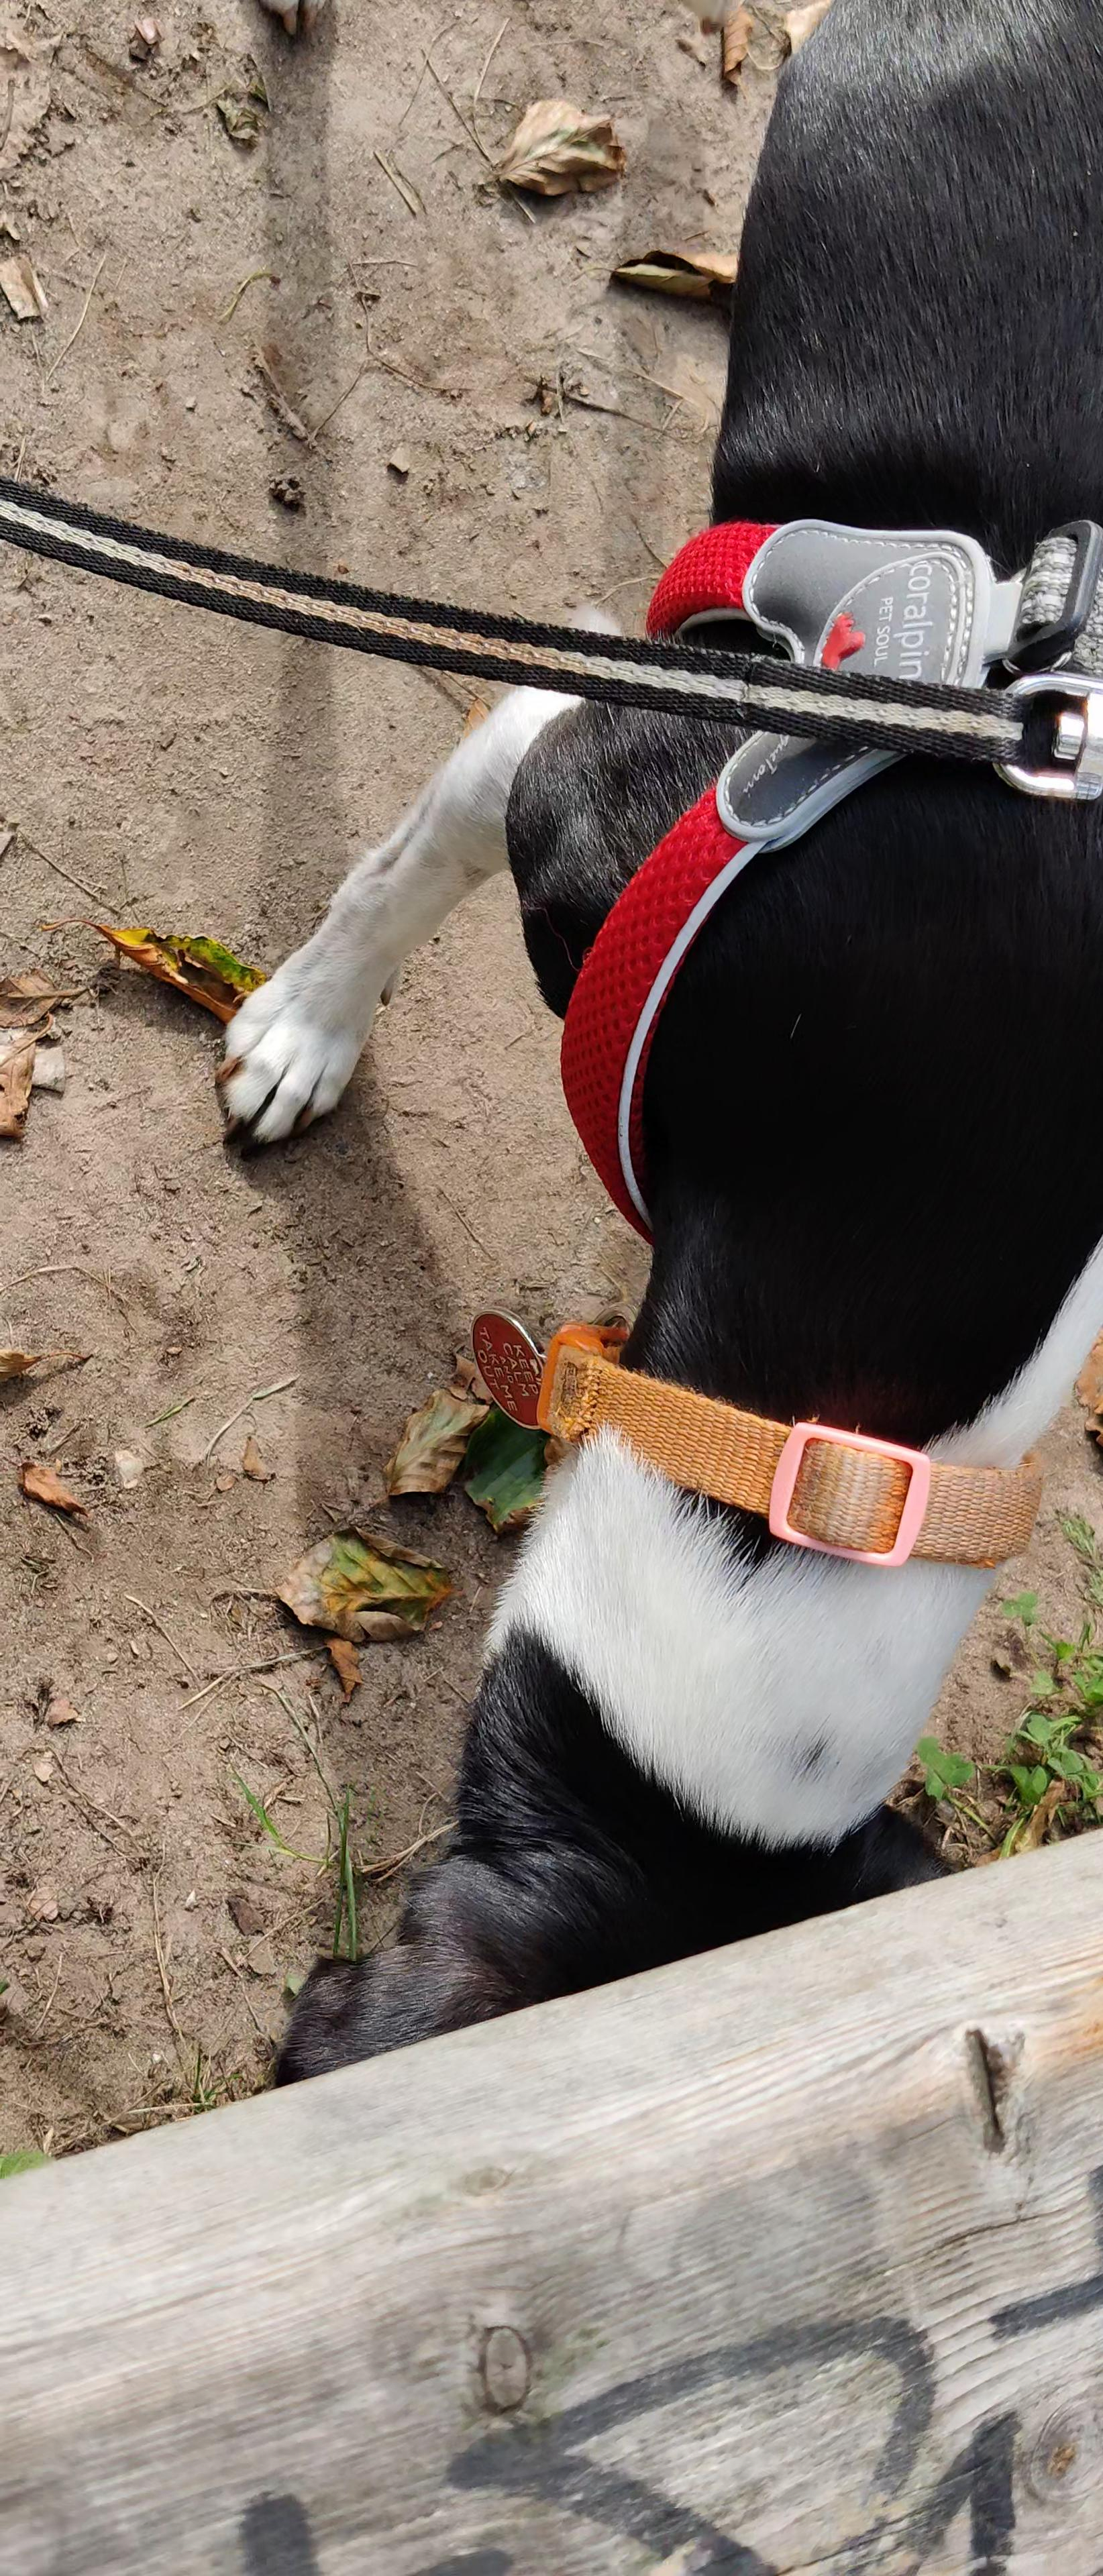Dog: (210, 0, 1103, 2096)
